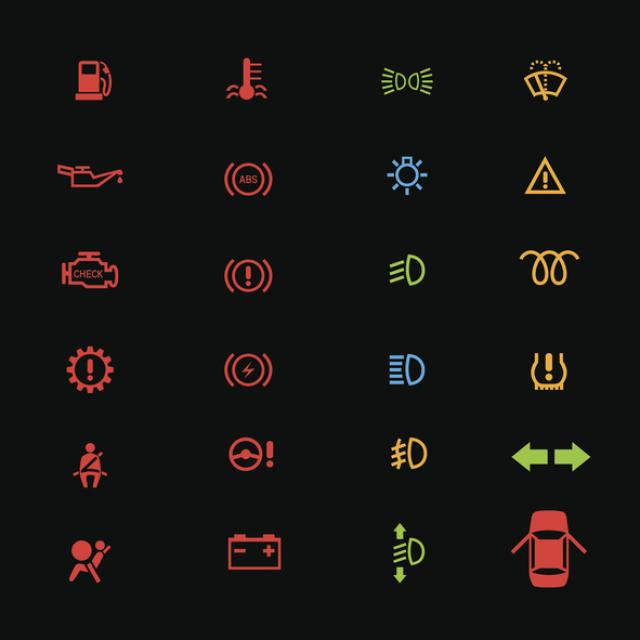kontrolka: (501, 503, 612, 605), (371, 518, 446, 590), (210, 336, 290, 401), (500, 428, 602, 476), (56, 433, 124, 503), (510, 140, 578, 206), (509, 47, 579, 111), (509, 241, 591, 292), (59, 341, 124, 399), (65, 47, 120, 113), (56, 245, 126, 296), (217, 48, 274, 110), (222, 527, 289, 579), (59, 534, 118, 592), (217, 152, 279, 206), (377, 56, 440, 108), (522, 345, 580, 400), (54, 154, 130, 194), (381, 151, 438, 204), (217, 250, 276, 298), (221, 432, 280, 478), (385, 431, 436, 482), (380, 247, 433, 296), (382, 346, 432, 397)
